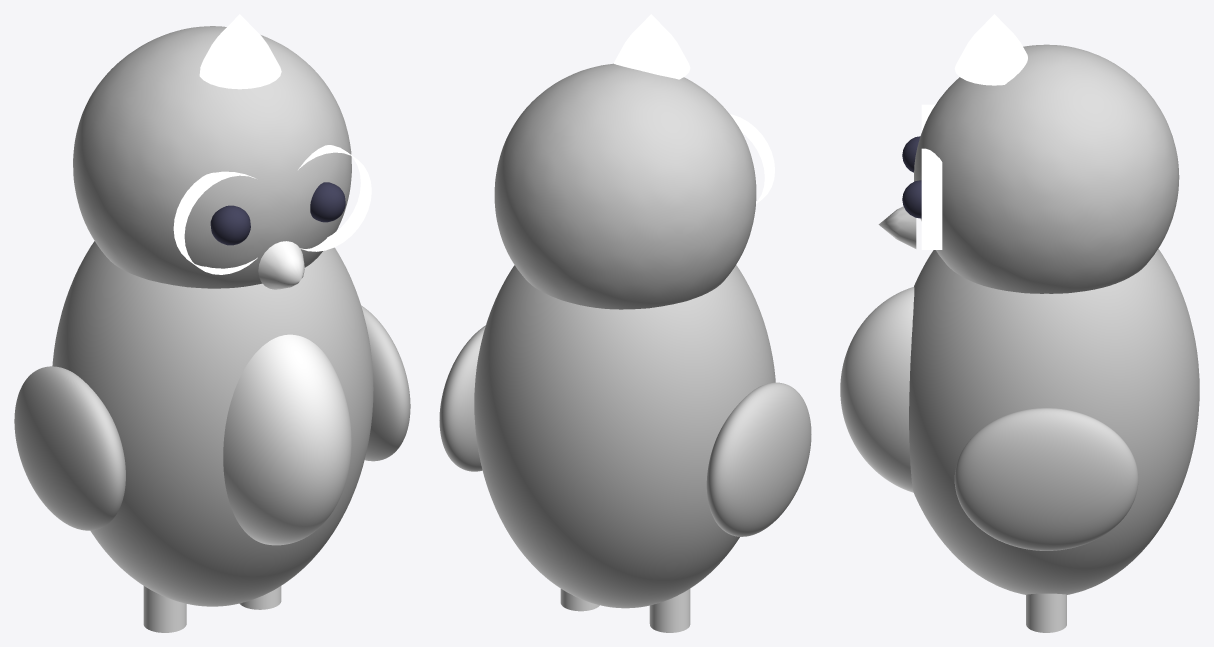
File: pet_memory_owl_v3.glb
3 renders of one model, left to right at view 1: azimuth 30°, elevation 25°; view 2: azimuth 150°, elevation 25°; view 3: azimuth 270°, elevation 25°, orthographic. The views are drawn at different scales.
Visible parts, largest first — view 1: v3_owl_body, v3_owl_head, v3_owl_chest, v3_owl_wing_-1, v3_owl_wing_1, v3_owl_crystal, v3_owl_beak, v3_owl_eye_disc_-1, v3_owl_eye_disc_1, v3_owl_talon_-0.1, v3_owl_pupil_-1, v3_owl_pupil_1; view 2: v3_owl_body, v3_owl_head, v3_owl_wing_-1, v3_owl_wing_1, v3_owl_crystal, v3_owl_talon_-0.1, v3_owl_eye_disc_-1; view 3: v3_owl_body, v3_owl_head, v3_owl_wing_1, v3_owl_chest, v3_owl_crystal, v3_owl_eye_disc_1, v3_owl_talon_0.1, v3_owl_beak, v3_owl_pupil_1.
Part boxes in pixels (x1=…): v3_owl_body: x1=52, y1=241, x2=373, y2=606; v3_owl_head: x1=73, y1=26, x2=351, y2=288; v3_owl_chest: x1=223, y1=334, x2=351, y2=545; v3_owl_wing_-1: x1=14, y1=366, x2=125, y2=530; v3_owl_wing_1: x1=361, y1=305, x2=410, y2=461; v3_owl_crystal: x1=199, y1=14, x2=281, y2=89; v3_owl_beak: x1=258, y1=241, x2=304, y2=289; v3_owl_eye_disc_-1: x1=173, y1=171, x2=257, y2=274; v3_owl_eye_disc_1: x1=298, y1=145, x2=371, y2=251; v3_owl_talon_-0.1: x1=143, y1=586, x2=186, y2=632; v3_owl_pupil_-1: x1=210, y1=205, x2=250, y2=245; v3_owl_pupil_1: x1=310, y1=182, x2=345, y2=222; v3_owl_body: x1=474, y1=265, x2=775, y2=608; v3_owl_head: x1=494, y1=63, x2=756, y2=309; v3_owl_wing_-1: x1=706, y1=382, x2=811, y2=536; v3_owl_wing_1: x1=439, y1=325, x2=485, y2=471; v3_owl_crystal: x1=613, y1=14, x2=690, y2=79; v3_owl_talon_-0.1: x1=649, y1=589, x2=690, y2=632; v3_owl_eye_disc_-1: x1=730, y1=114, x2=774, y2=203; v3_owl_body: x1=909, y1=249, x2=1199, y2=594; v3_owl_head: x1=914, y1=44, x2=1179, y2=293; v3_owl_wing_1: x1=954, y1=408, x2=1138, y2=550; v3_owl_chest: x1=840, y1=287, x2=914, y2=492; v3_owl_crystal: x1=954, y1=14, x2=1027, y2=85; v3_owl_eye_disc_1: x1=921, y1=148, x2=942, y2=249; v3_owl_talon_0.1: x1=1026, y1=593, x2=1066, y2=632; v3_owl_beak: x1=878, y1=206, x2=916, y2=248; v3_owl_pupil_1: x1=902, y1=180, x2=921, y2=218.
Bounding box in the file's own units: 0.7176 × 1.25 × 0.6902.
